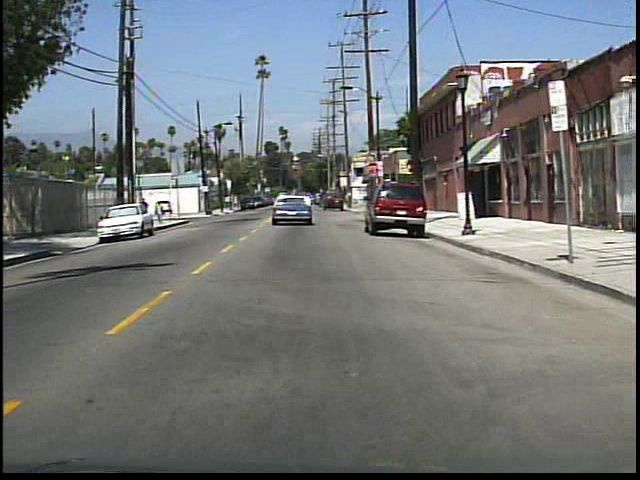person: (137, 195, 153, 228), (153, 198, 167, 225)
